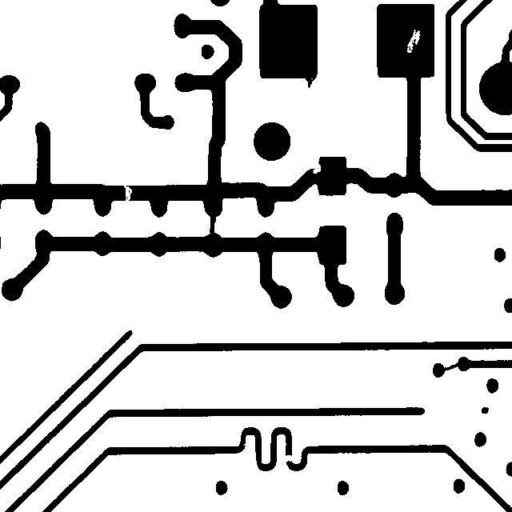copper: (474, 399, 496, 421)
mousebite: (305, 154, 328, 181)
open: (116, 177, 139, 211), (276, 447, 301, 469)
pin-hole: (399, 22, 427, 60)
short: (430, 355, 473, 379), (202, 207, 222, 242)
spur: (298, 62, 323, 95)
